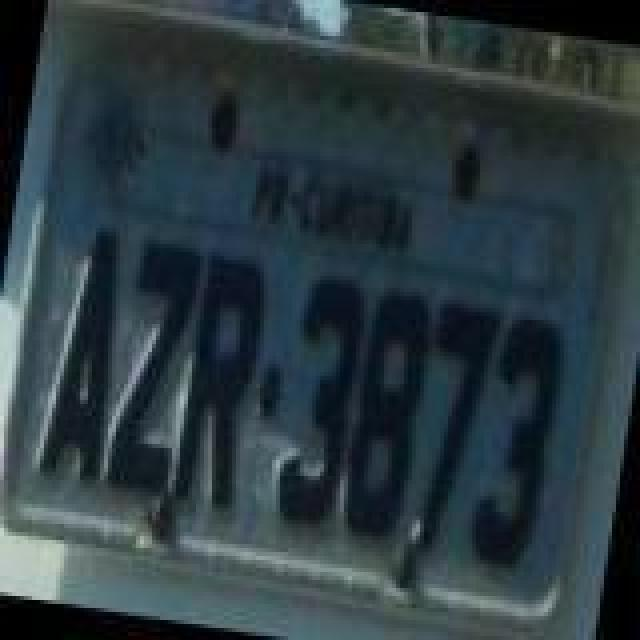3: (462, 306, 570, 574), (268, 268, 372, 532)
7: (396, 296, 500, 560)
8: (332, 284, 436, 548)
A: (36, 224, 140, 488)
R: (168, 252, 272, 516)
Z: (100, 234, 204, 502)
